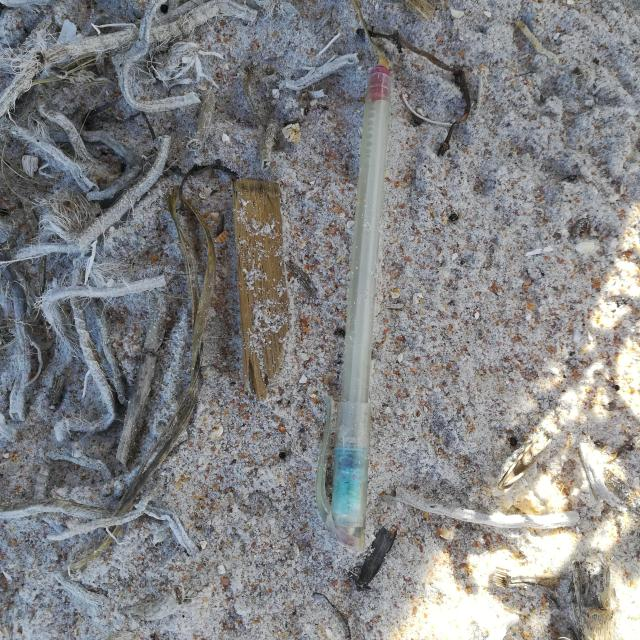litter: (317, 68, 389, 557)
